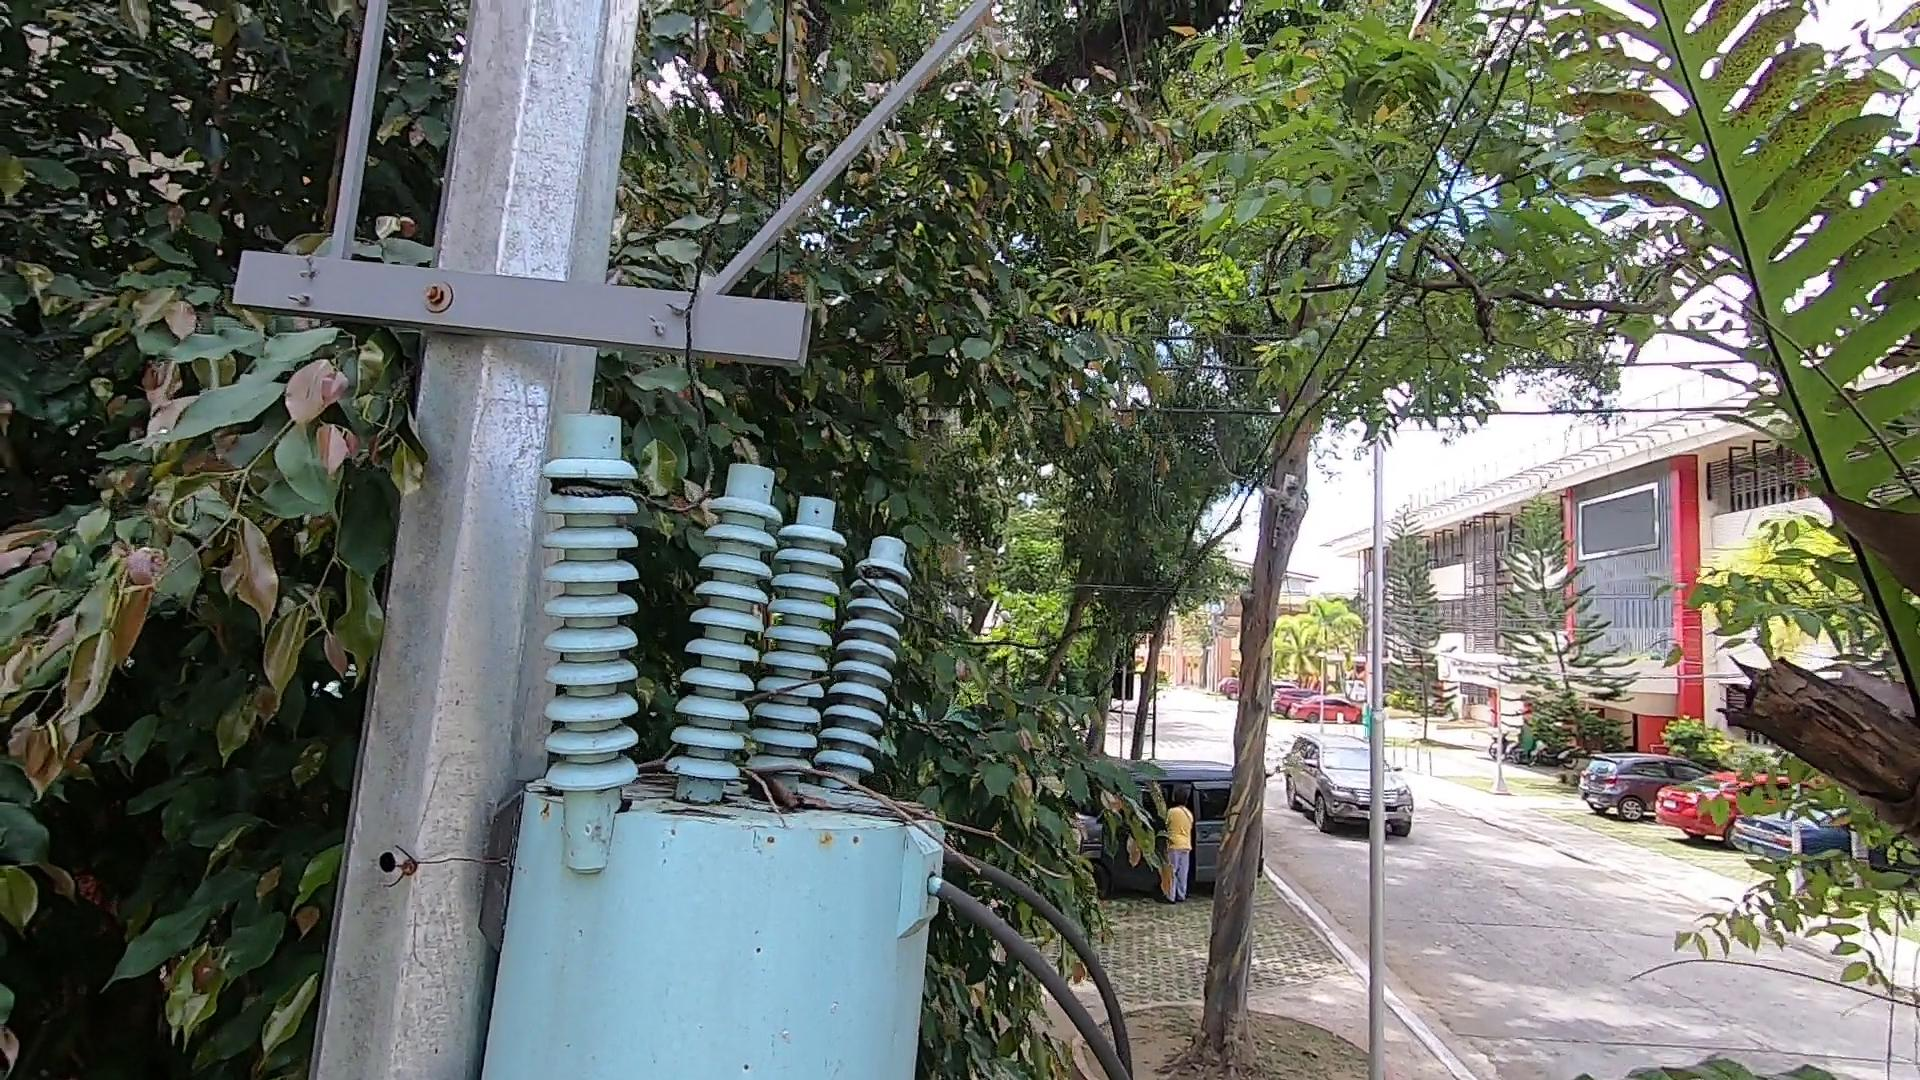tree branch: (589, 703, 1081, 934), (745, 766, 851, 828)
